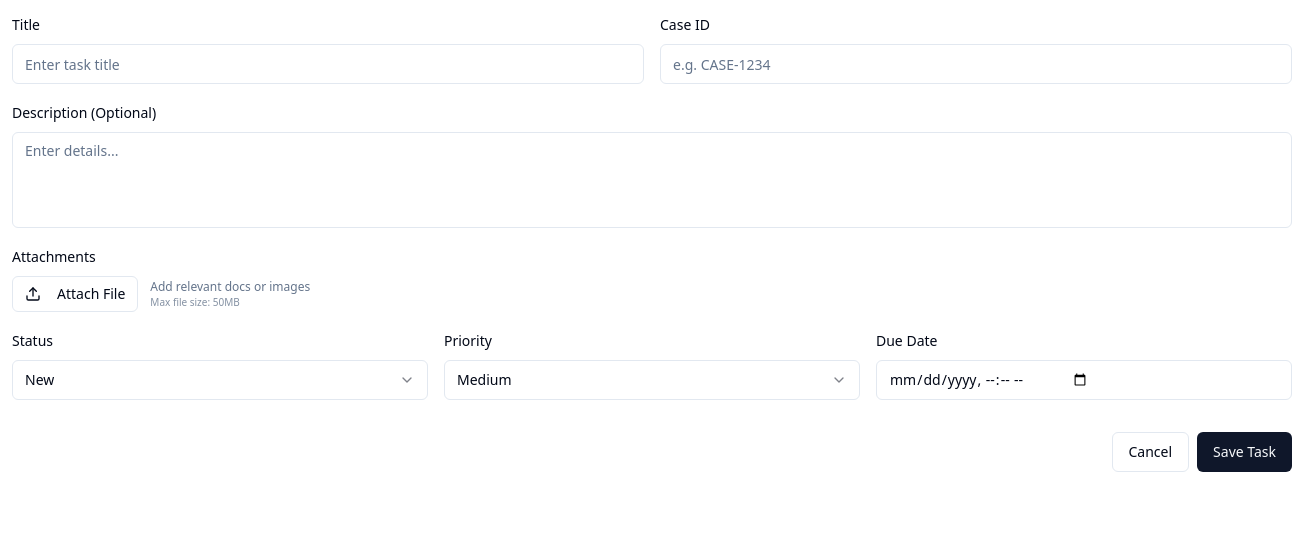
TaskForm › displays validation error when title is empty and form is submitted
Click the button "Save Task". click: (1245, 452)
box: [1197,432,1292,472]
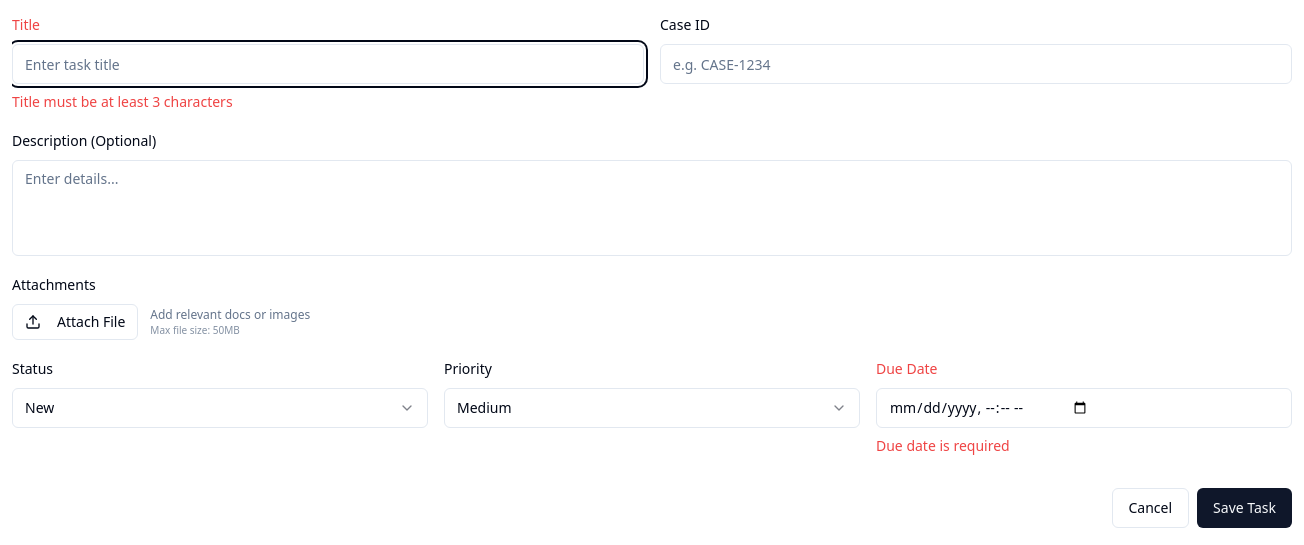
Now the text "Title must be at least 3 characters" is shown, box [12,92,233,111]
